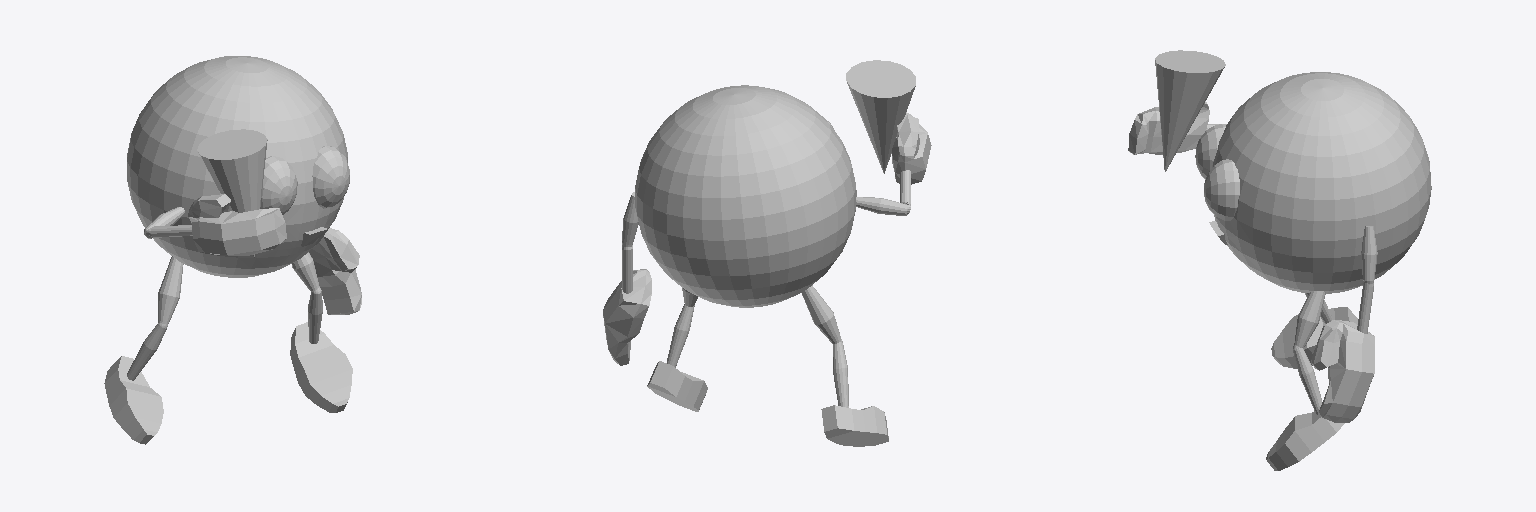
Rendered from stepLeft_000033.obj.
3 views of the same model, side by side, from view 1: azimuth 30°, elevation 25°; view 2: azimuth 150°, elevation 25°; view 3: azimuth 270°, elevation 25° (orthographic).
Visible parts, largest first — view 1: Rusko_Sphere; view 2: Rusko_Sphere; view 3: Rusko_Sphere.
Part boxes in pixels (left/top/right/bottom): Rusko_Sphere: left=104, top=56, right=361, bottom=444; Rusko_Sphere: left=603, top=60, right=931, bottom=446; Rusko_Sphere: left=1128, top=50, right=1431, bottom=470.
Bounding box in the file's own units: 5.44 × 6.92 × 5.45.